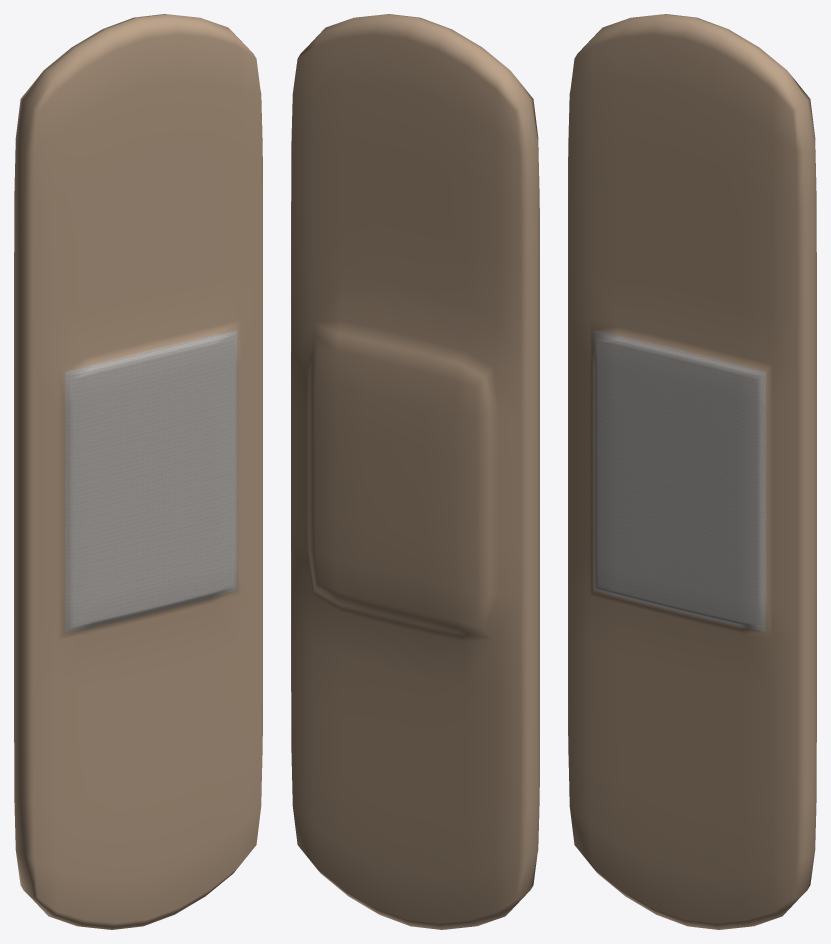
The model's file is band_aid.glb.
The picture shows the model from 3 angles, left to right: view 1: azimuth 30°, elevation 25°; view 2: azimuth 150°, elevation 25°; view 3: azimuth 330°, elevation 25°; orthographic projection.
Parts seen in each view (by area): view 1: BAND AID.002; view 2: BAND AID.002; view 3: BAND AID.002.
Part boxes in pixels (x1,y1,x2,y2): BAND AID.002: (14, 14, 262, 929); BAND AID.002: (291, 14, 539, 929); BAND AID.002: (568, 14, 816, 929).
Size of the model in its own units: 0.4248 by 1.53 by 0.1099.
Materials: 2 (2 with a texture image).
